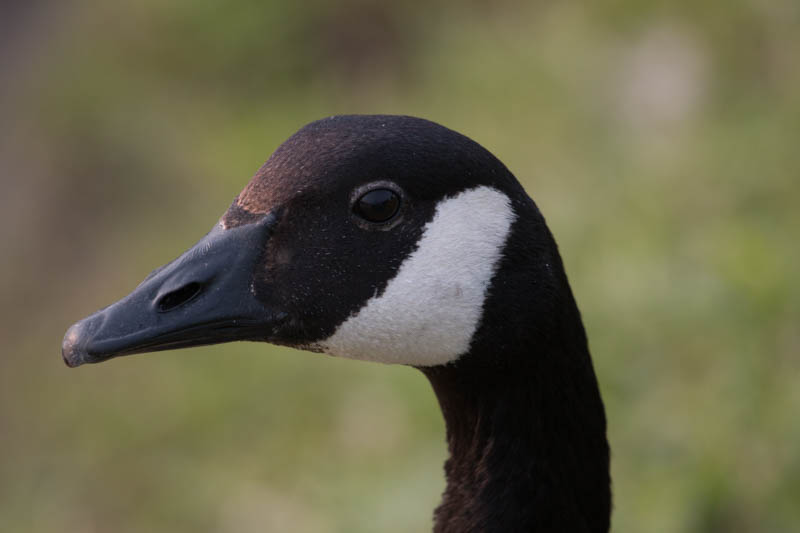goose-head: (60, 113, 552, 369)
